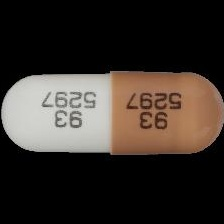60687-151: (0, 0, 224, 224)
